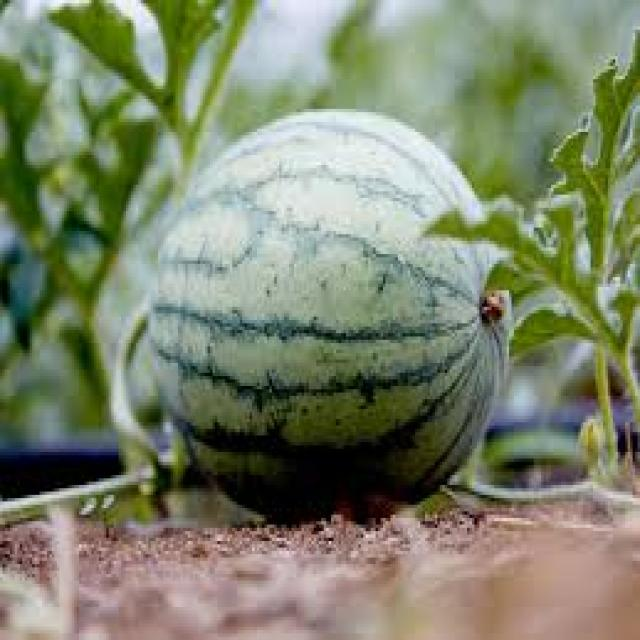watermelon: (146, 106, 514, 521)
